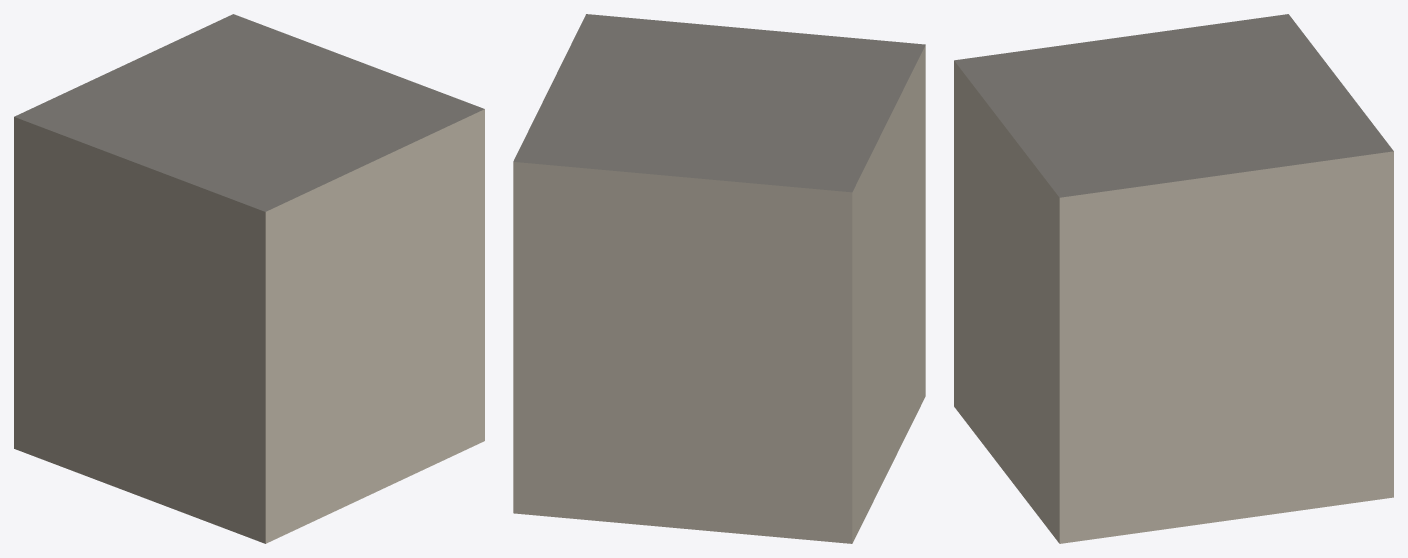
3 renders of one model, left to right at view 1: azimuth 30°, elevation 25°; view 2: azimuth 150°, elevation 25°; view 3: azimuth 270°, elevation 25°, orthographic. The views are drawn at different scales.
Parts seen in each view (by area): view 1: HP-w1197674361; view 2: HP-w1197674361; view 3: HP-w1197674361.
Part boxes in pixels (bbox=[...]): HP-w1197674361: bbox=[14, 14, 484, 543]; HP-w1197674361: bbox=[513, 14, 925, 543]; HP-w1197674361: bbox=[954, 14, 1393, 543].
Bounding box in the file's own units: 17.08 × 15 × 17.27.
